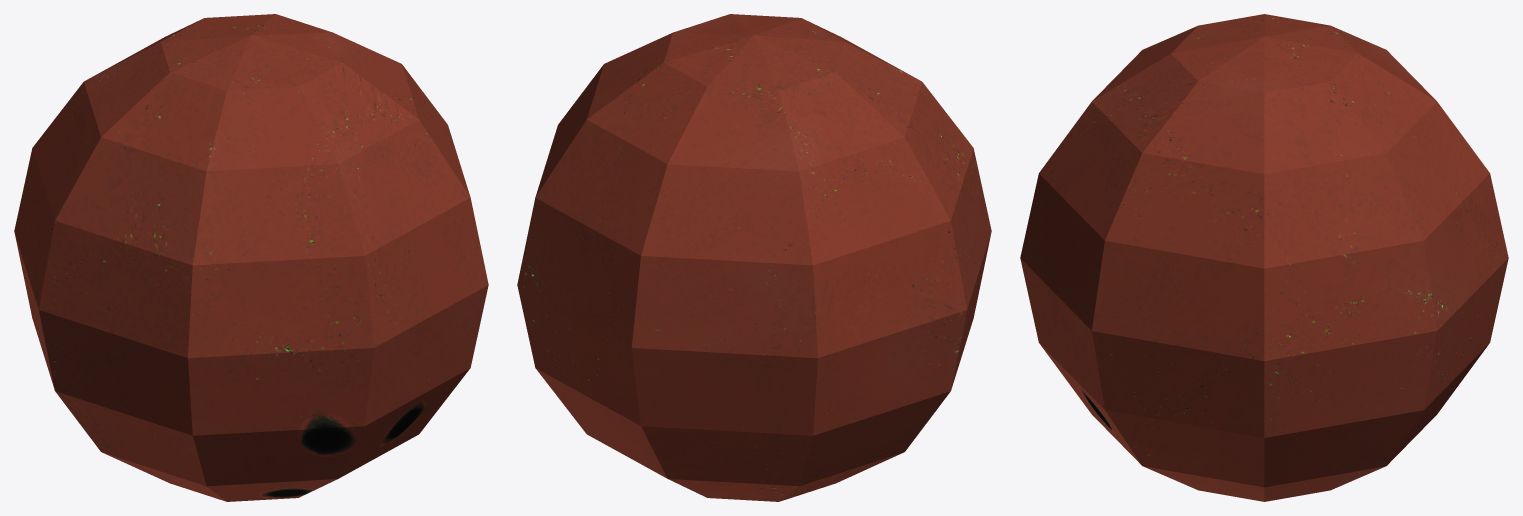
Rendered from Bowling_Ball.obj.
3 renders of one model, left to right at view 1: azimuth 30°, elevation 25°; view 2: azimuth 150°, elevation 25°; view 3: azimuth 270°, elevation 25°, orthographic.
Parts seen in each view (by area): view 1: UV_Sphere_UV_Sphere; view 2: UV_Sphere_UV_Sphere; view 3: UV_Sphere_UV_Sphere.
Boxes of the visible parts, x1,y1,x2,y2 form: UV_Sphere_UV_Sphere: [14, 14, 488, 501]; UV_Sphere_UV_Sphere: [517, 14, 991, 501]; UV_Sphere_UV_Sphere: [1020, 14, 1508, 501].
Bounding box in the file's own units: 1 × 1 × 1.
1 material, 1 textured.
